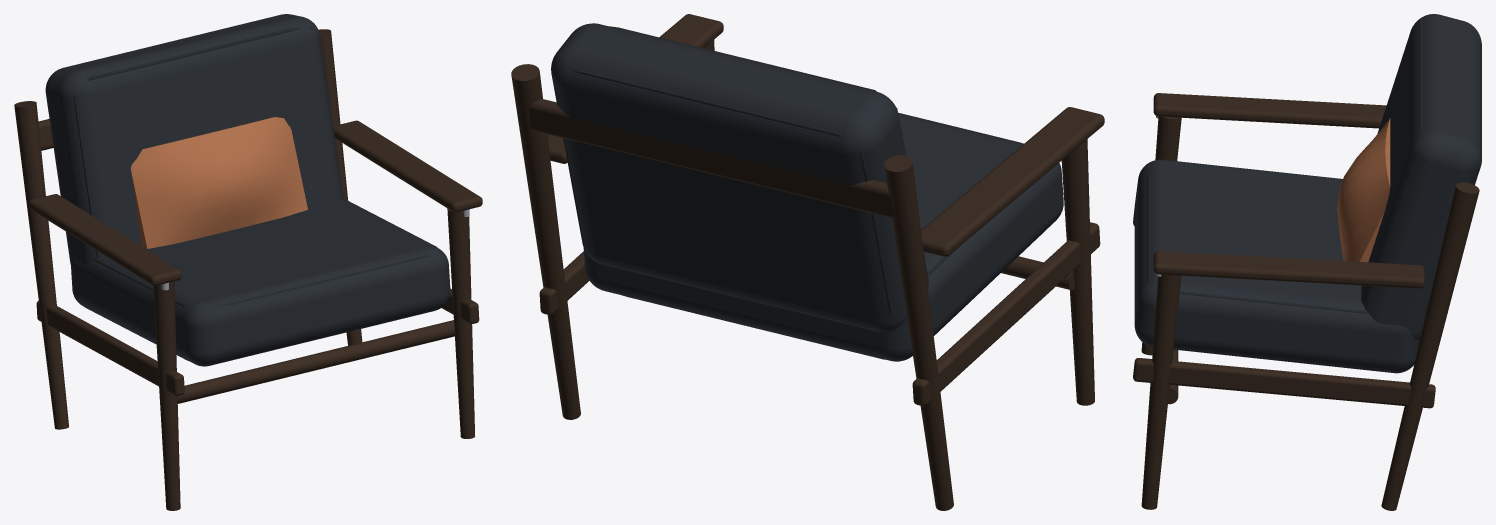
The model's file is atelier-timber-obsidian.glb.
3 views of the same model, side by side, from view 1: azimuth 30°, elevation 25°; view 2: azimuth 150°, elevation 25°; view 3: azimuth 270°, elevation 25° (orthographic). The views are drawn at different scales.
Size of the model in its own units: 0.844 by 0.81 by 0.7149.
